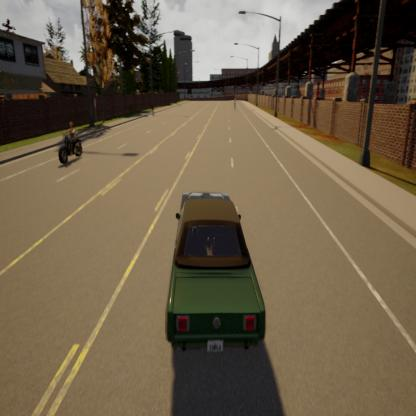Cars: (154, 178, 271, 370)
